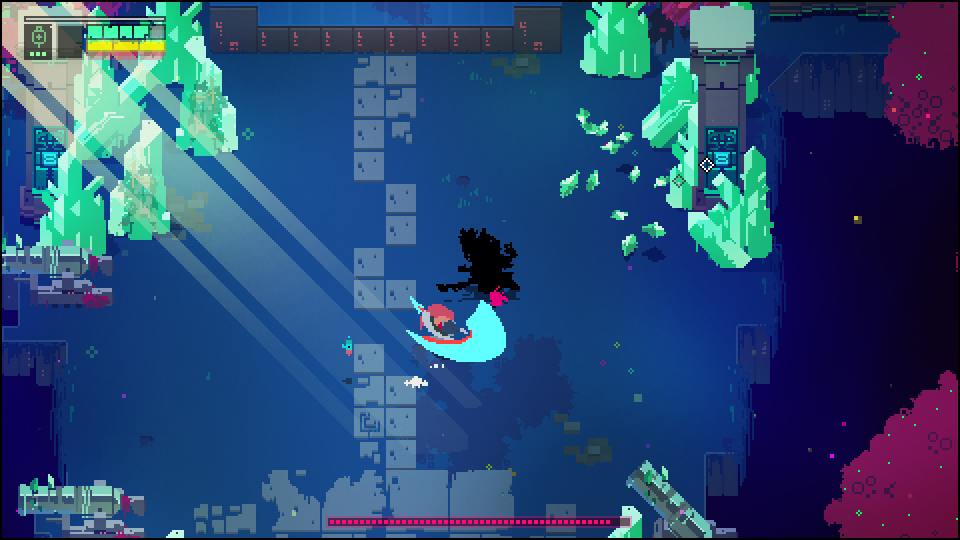hanged_man: (452, 229, 521, 302)
player: (406, 297, 492, 375)
